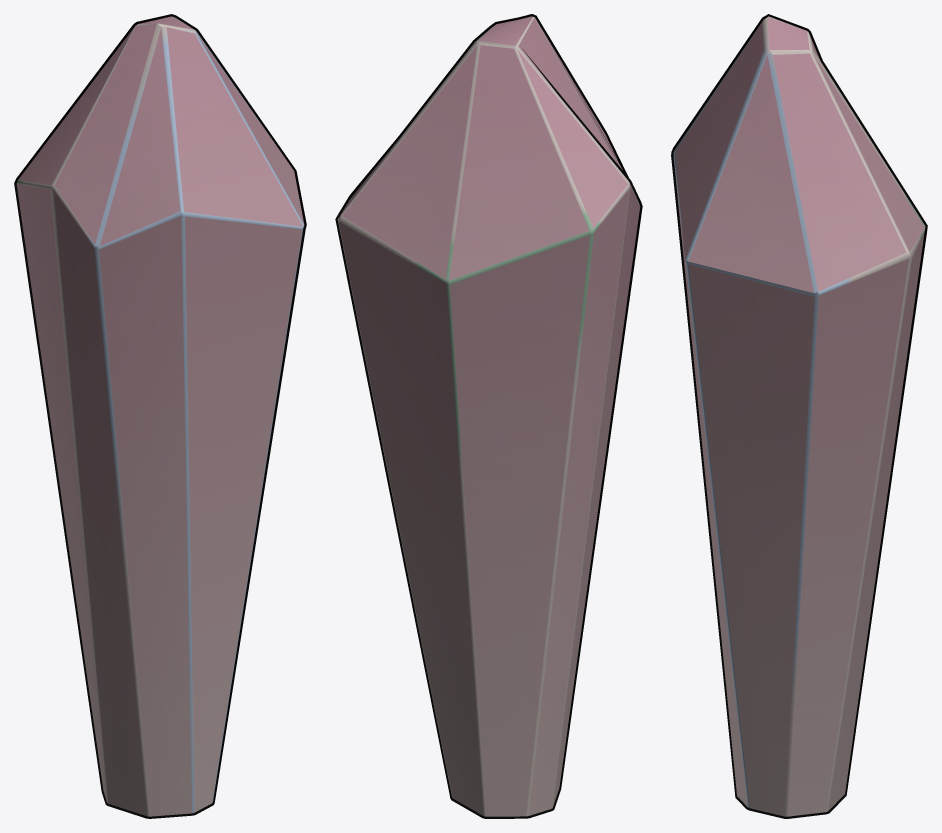
File: crystal-crossroads__Crystal_Small_02.glb
3 renders of one model, left to right at view 1: azimuth 30°, elevation 25°; view 2: azimuth 150°, elevation 25°; view 3: azimuth 270°, elevation 25°, orthographic.
Parts seen in each view (by area): view 1: Crystal_Small_02; view 2: Crystal_Small_02; view 3: Crystal_Small_02.
Boxes of the visible parts, box(x1,y1,x2,y2) form: Crystal_Small_02: box(14, 14, 306, 818); Crystal_Small_02: box(335, 14, 642, 818); Crystal_Small_02: box(671, 14, 927, 818).
Bounding box in the file's own units: 1.13 × 3.2 × 0.9595.
Materials: 2 (1 with a texture image).
